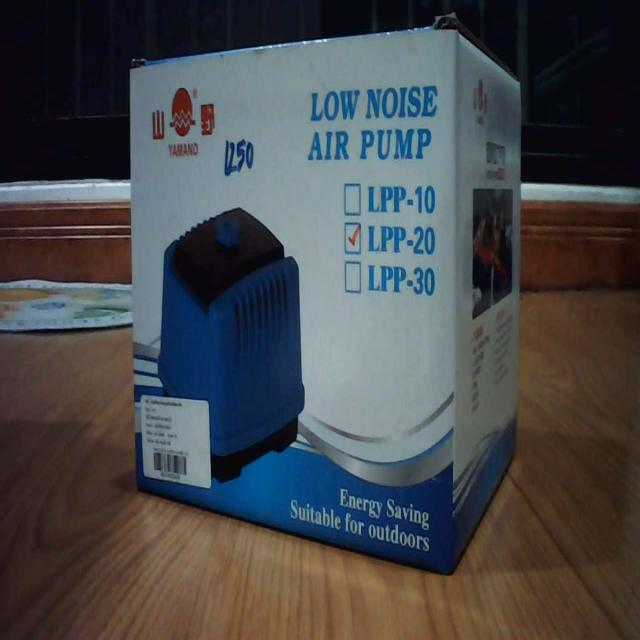YAMANO_LPP_20: (114, 4, 542, 586)
